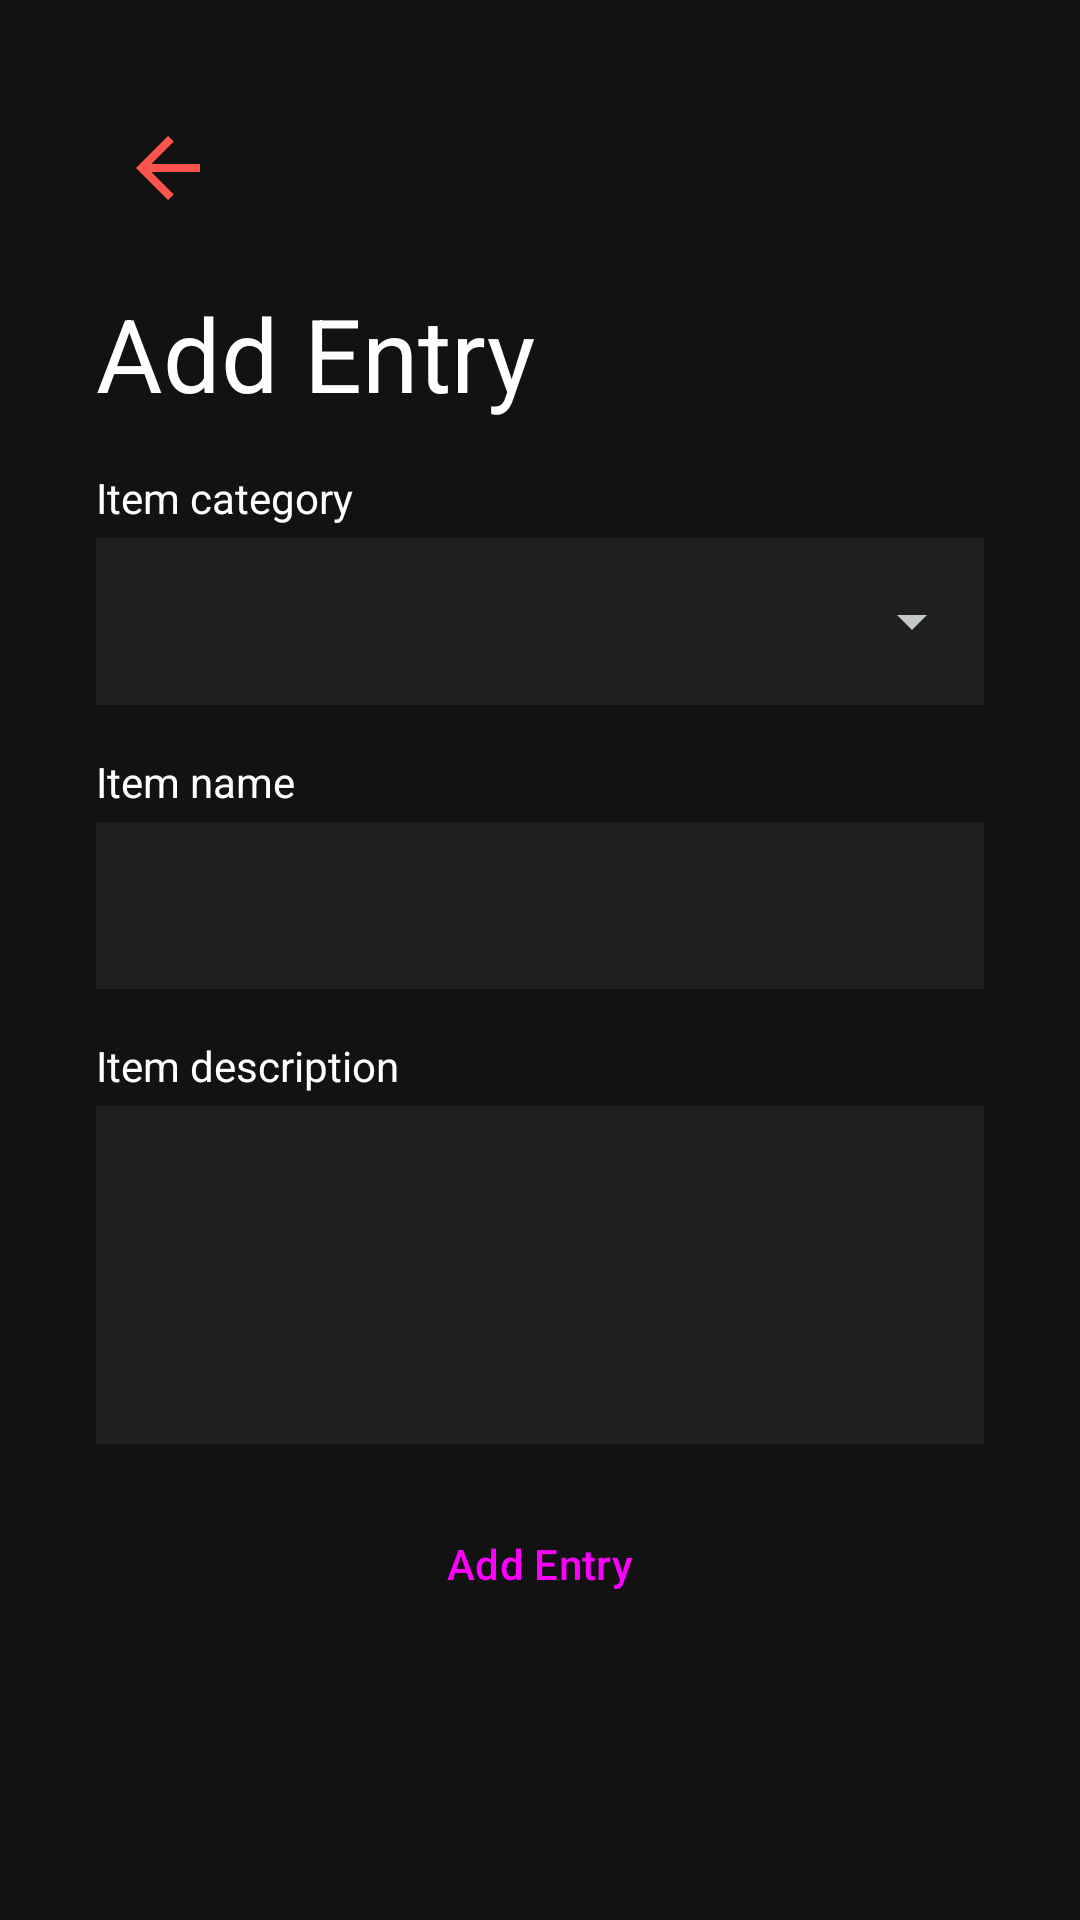

Named icons in this screenshot (1080 × 1920) and their bounding boxes, (x1, y1, x2, y2):
Back: (136, 136, 200, 200)
